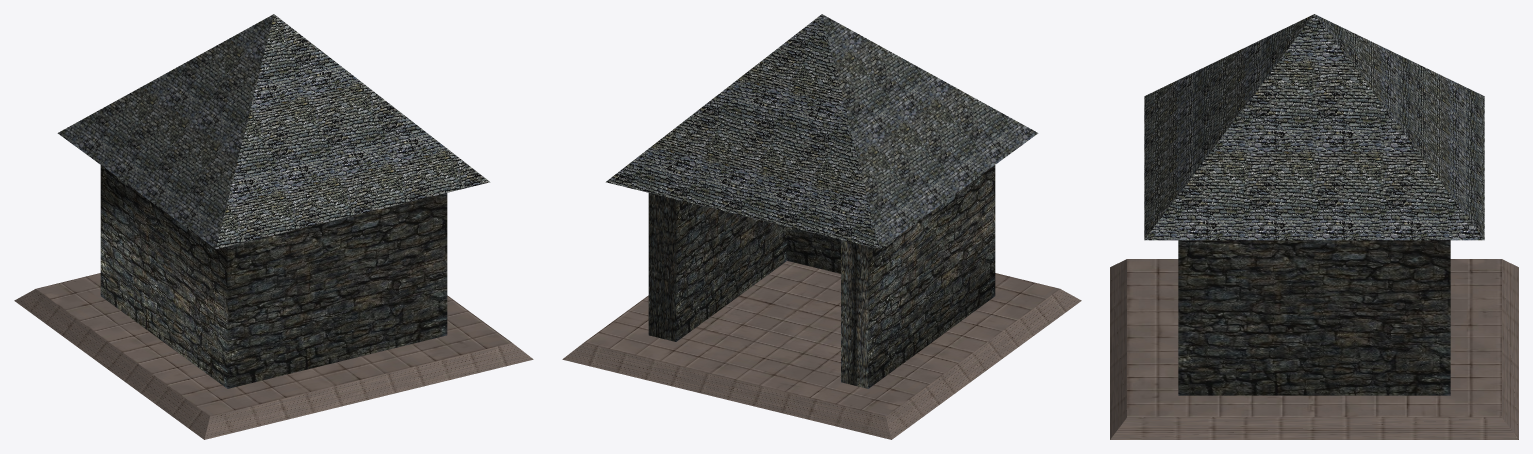
File: huiske.obj
3 renders of one model, left to right at view 1: azimuth 30°, elevation 25°; view 2: azimuth 150°, elevation 25°; view 3: azimuth 270°, elevation 25°, orthographic. The views are drawn at different scales.
Visible parts, largest first — view 1: pyramid4, cube2, Vloer, cube1; view 2: pyramid4, Vloer, cube1, cube3, cube2; view 3: pyramid4, cube3, Vloer.
Boxes of the visible parts, x1,y1,x2,y2 form: pyramid4: [57, 14, 490, 248]; cube2: [227, 193, 447, 388]; Vloer: [14, 273, 533, 439]; cube1: [100, 165, 227, 388]; pyramid4: [605, 14, 1038, 248]; Vloer: [562, 261, 1081, 439]; cube1: [841, 165, 995, 388]; cube3: [648, 193, 787, 341]; cube2: [787, 226, 840, 273]; pyramid4: [1144, 14, 1484, 240]; cube3: [1178, 240, 1450, 395]; Vloer: [1110, 259, 1518, 439].
Size of the model in its own units: 1536 by 1408 by 1536.
